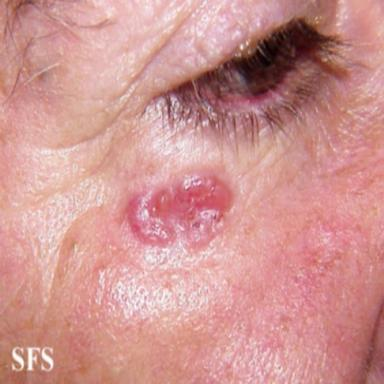basal-cell-carcinoma: (127, 175, 233, 249)
